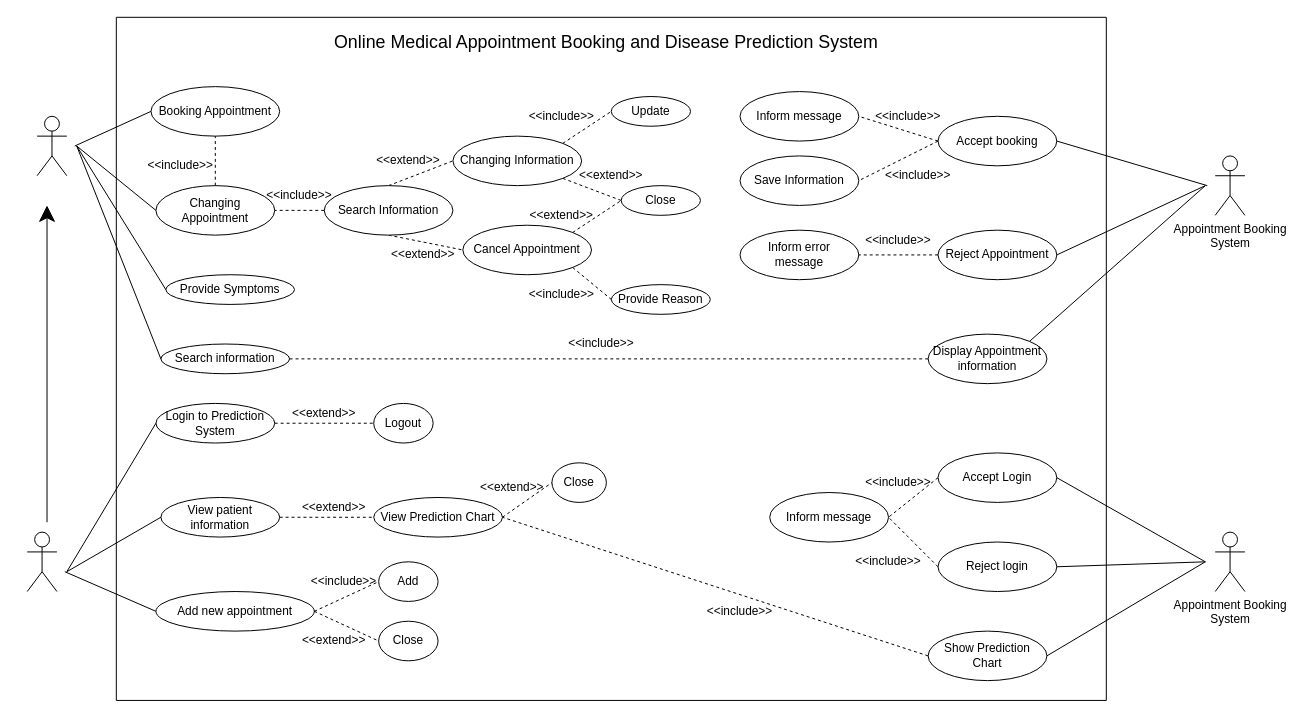
This 1304x718 diagram has some shape labels left out. Each missing label, with the centre of its shape:
Employer: pixel 41 561
Patients: pixel 51 145
